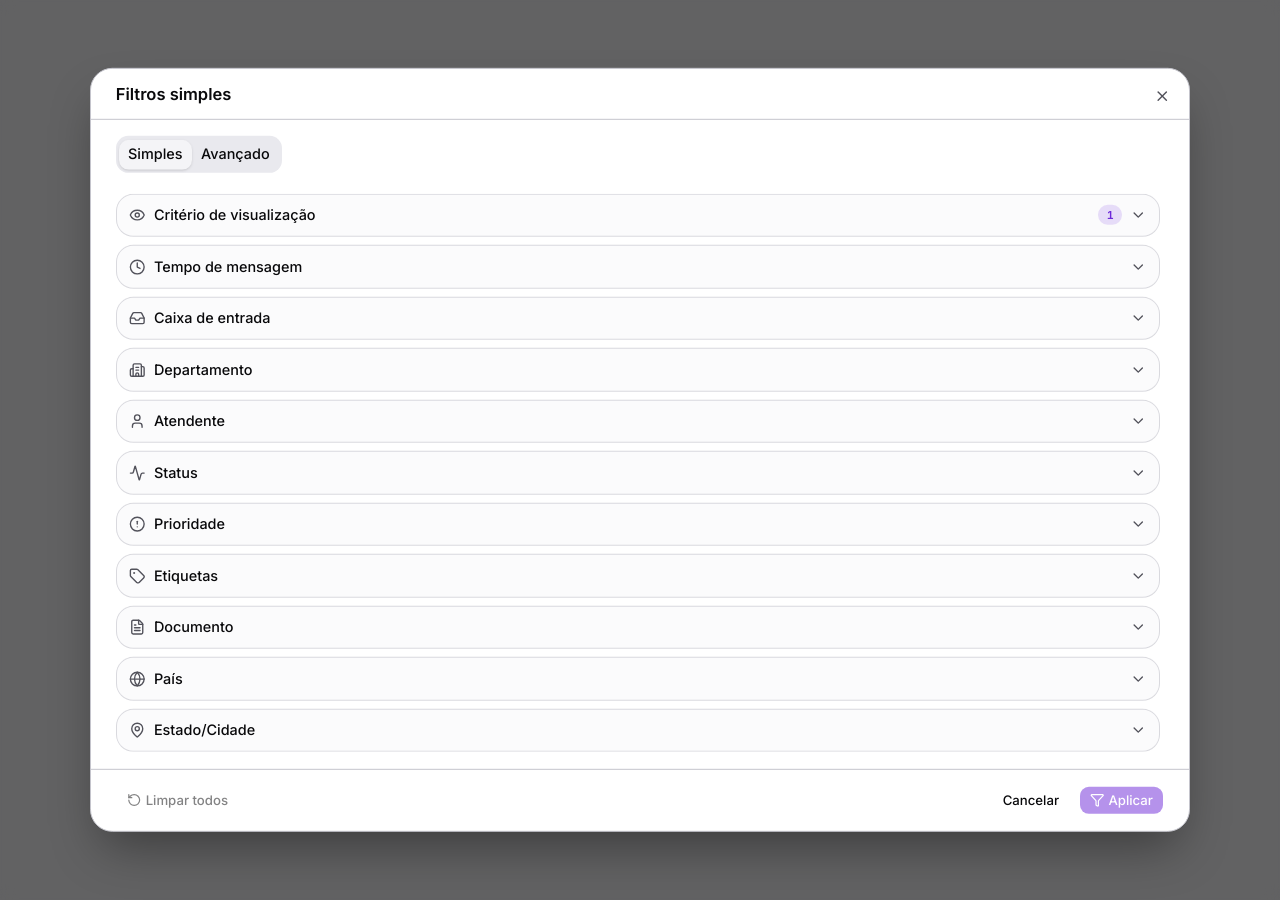
Test: FiltersDialog (modo simples) › alternar para tab Avançado mostra o query builder
This screenshot has width=1280, height=900.
Click the tab "Avançado" at (235, 154), box [192, 139, 279, 169]
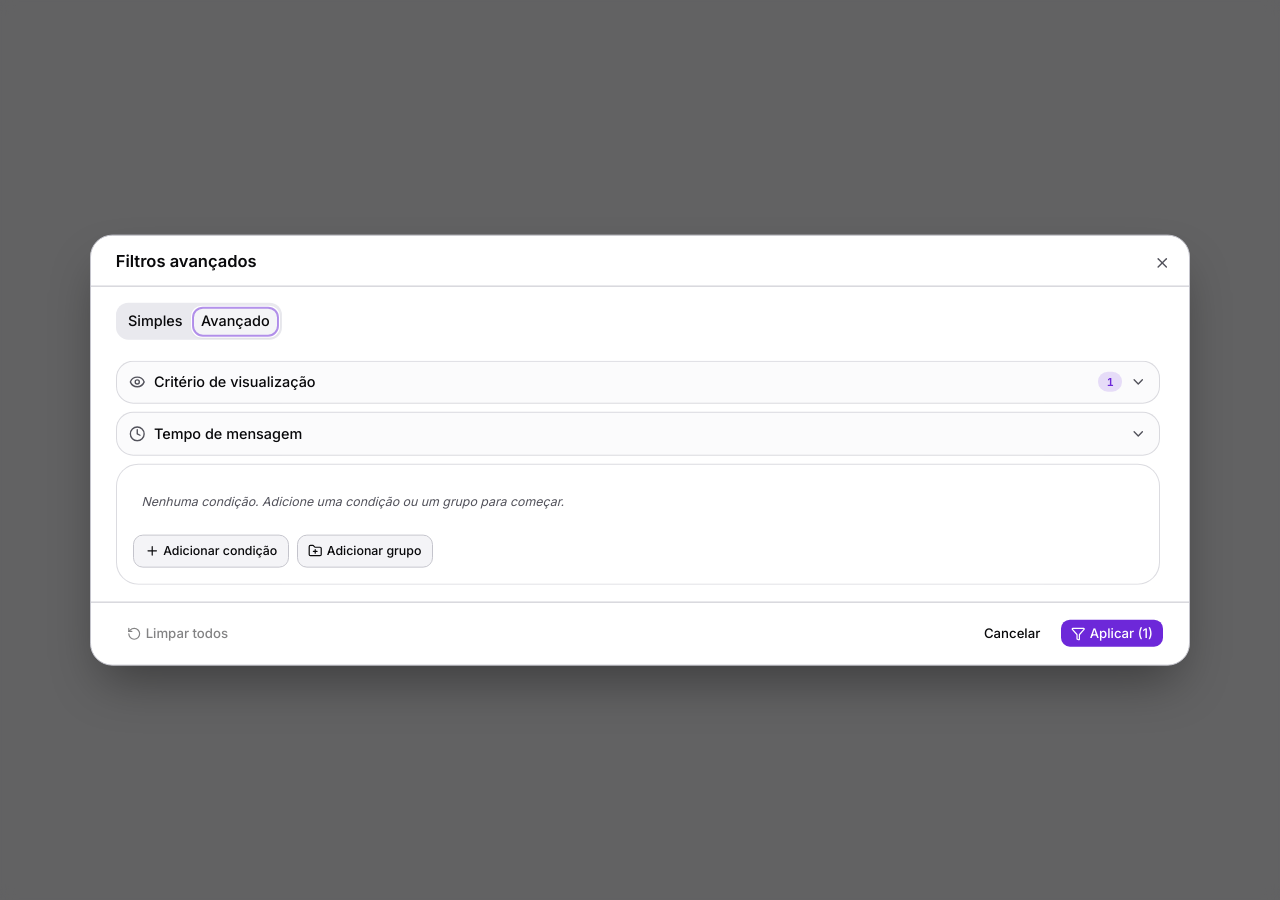
expect the button "Adicionar condição" is shown: met, box [133, 534, 289, 568]
